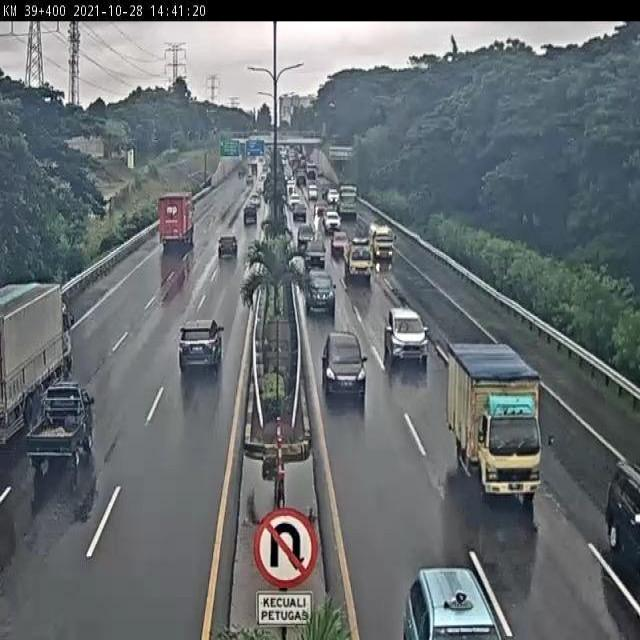car: (25, 383, 94, 468), (321, 331, 367, 400), (383, 310, 429, 370), (177, 317, 223, 373), (304, 268, 336, 317), (302, 240, 326, 269), (218, 235, 238, 257)
mid truck: (0, 278, 73, 446)
small truck: (343, 237, 373, 283)
truck-m-: (445, 340, 545, 503)
